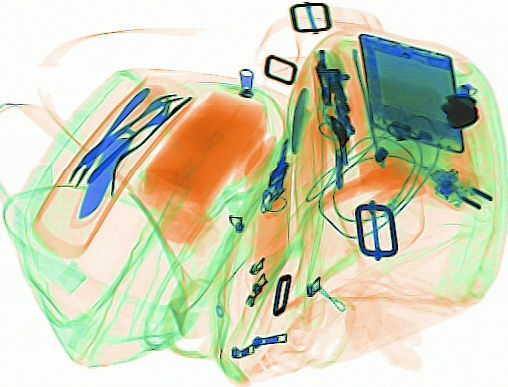knife: (68, 81, 167, 229)
